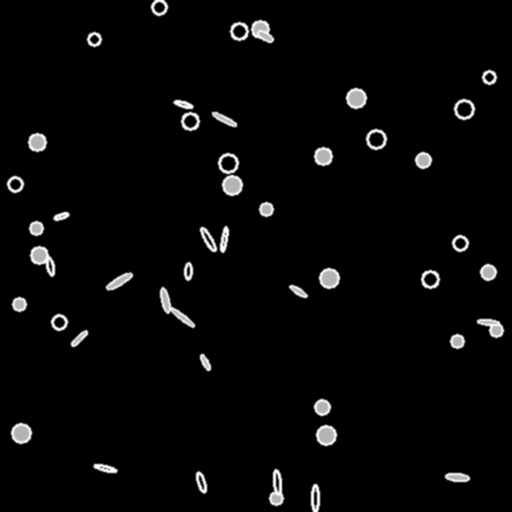pseudomonas: (169, 306, 195, 328), (105, 271, 133, 291), (198, 226, 218, 252), (211, 110, 237, 128), (70, 329, 88, 347), (159, 287, 171, 313), (289, 284, 307, 298), (93, 463, 117, 473), (272, 470, 282, 494), (195, 472, 207, 492), (257, 29, 273, 43), (173, 99, 193, 109), (45, 256, 55, 276), (220, 227, 228, 251), (199, 354, 211, 370), (311, 485, 318, 511), (446, 473, 468, 481), (53, 211, 69, 221), (184, 262, 192, 280), (478, 319, 498, 325)
synechocystis: (455, 100, 473, 118), (219, 154, 237, 172), (12, 424, 30, 442), (367, 130, 385, 148), (223, 176, 241, 194), (317, 426, 335, 444), (347, 89, 365, 107), (320, 269, 338, 287), (231, 23, 247, 39), (252, 21, 268, 37), (315, 148, 331, 164), (31, 247, 47, 263), (422, 271, 438, 287), (182, 113, 198, 129), (29, 134, 45, 150), (416, 153, 430, 167), (453, 236, 467, 250), (481, 265, 495, 279), (52, 315, 66, 329), (315, 400, 329, 414), (152, 0, 166, 14), (8, 177, 22, 191), (451, 335, 463, 347), (260, 203, 272, 215), (88, 33, 100, 45), (13, 298, 25, 310), (30, 222, 42, 234), (483, 71, 495, 83), (490, 324, 502, 336), (270, 492, 282, 504)
